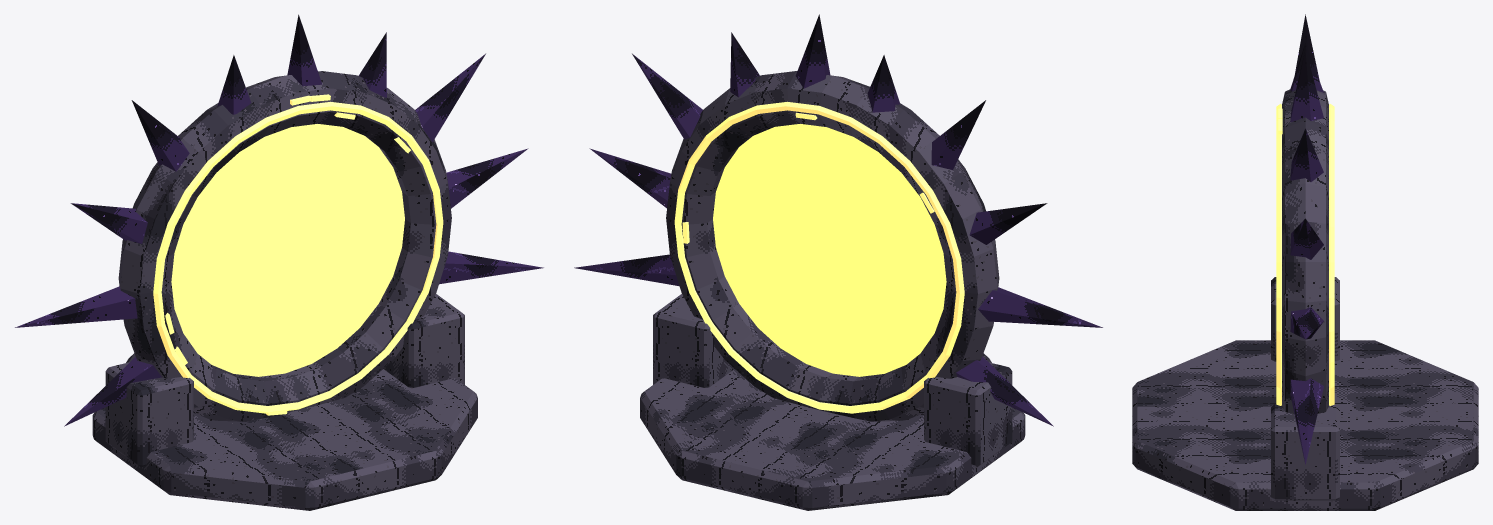
The model's file is crater_portal.glb.
3 views of the same model, side by side, from view 1: azimuth 30°, elevation 25°; view 2: azimuth 150°, elevation 25°; view 3: azimuth 270°, elevation 25° (orthographic). The views are drawn at different scales.
Parts seen in each view (by area): view 1: Disc, Ring, Base, Claws, Feet, Veins; view 2: Disc, Ring, Base, Claws, Feet, Veins; view 3: Base, Ring, Feet, Claws, Veins.
Boxes of the visible parts, x1=… form: Disc: x1=171, y1=124, x2=404, y2=376; Ring: x1=118, y1=71, x2=451, y2=421; Base: x1=92, y1=353, x2=477, y2=510; Claws: x1=15, y1=14, x2=543, y2=426; Feet: x1=105, y1=294, x2=464, y2=467; Veins: x1=153, y1=94, x2=443, y2=415; Disc: x1=713, y1=124, x2=946, y2=376; Ring: x1=666, y1=71, x2=999, y2=421; Base: x1=640, y1=353, x2=1025, y2=510; Claws: x1=574, y1=14, x2=1102, y2=426; Feet: x1=653, y1=294, x2=1012, y2=467; Veins: x1=674, y1=101, x2=964, y2=413; Base: x1=1132, y1=340, x2=1478, y2=510; Ring: x1=1282, y1=89, x2=1328, y2=414; Feet: x1=1271, y1=277, x2=1339, y2=500; Claws: x1=1290, y1=14, x2=1323, y2=464; Veins: x1=1276, y1=104, x2=1334, y2=405.
Bounding box in the file's own units: 9.4 × 7.01 × 5.54.
Materials: 4 (2 with a texture image).
